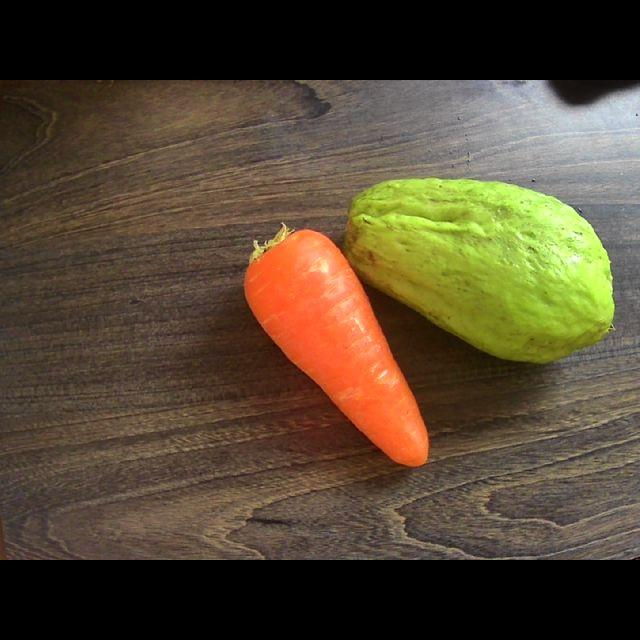chayote: (344, 179, 614, 363)
zanahoria: (244, 225, 428, 466)
